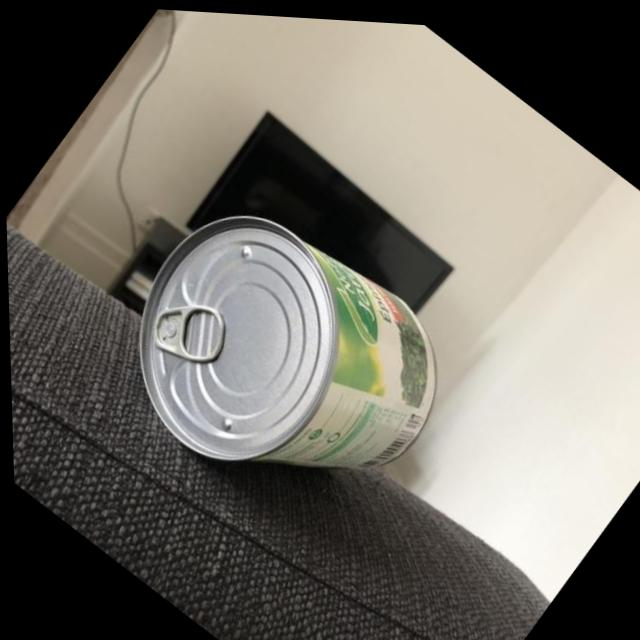metal: (128, 121, 448, 466)
